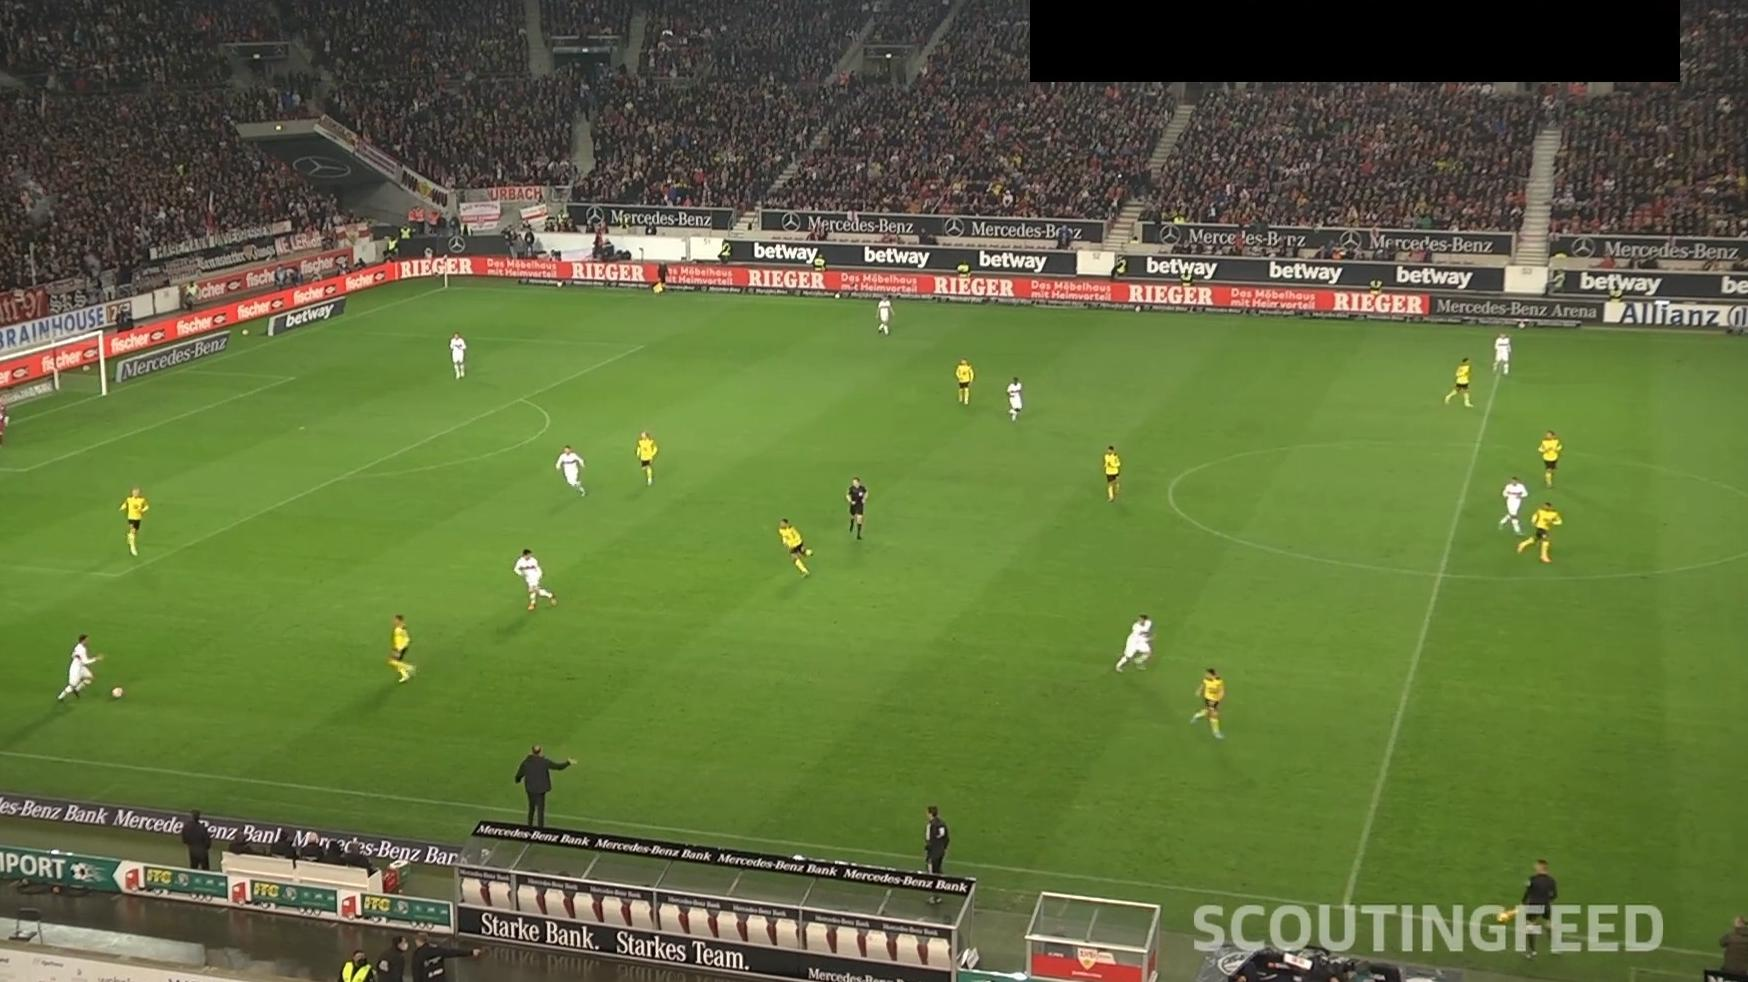ball: (112, 685, 124, 699)
